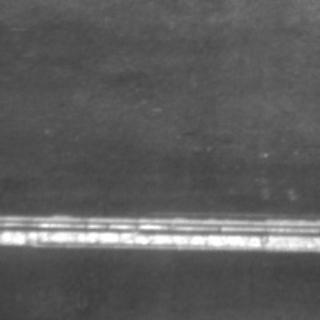scratches: (0, 204, 318, 256)
